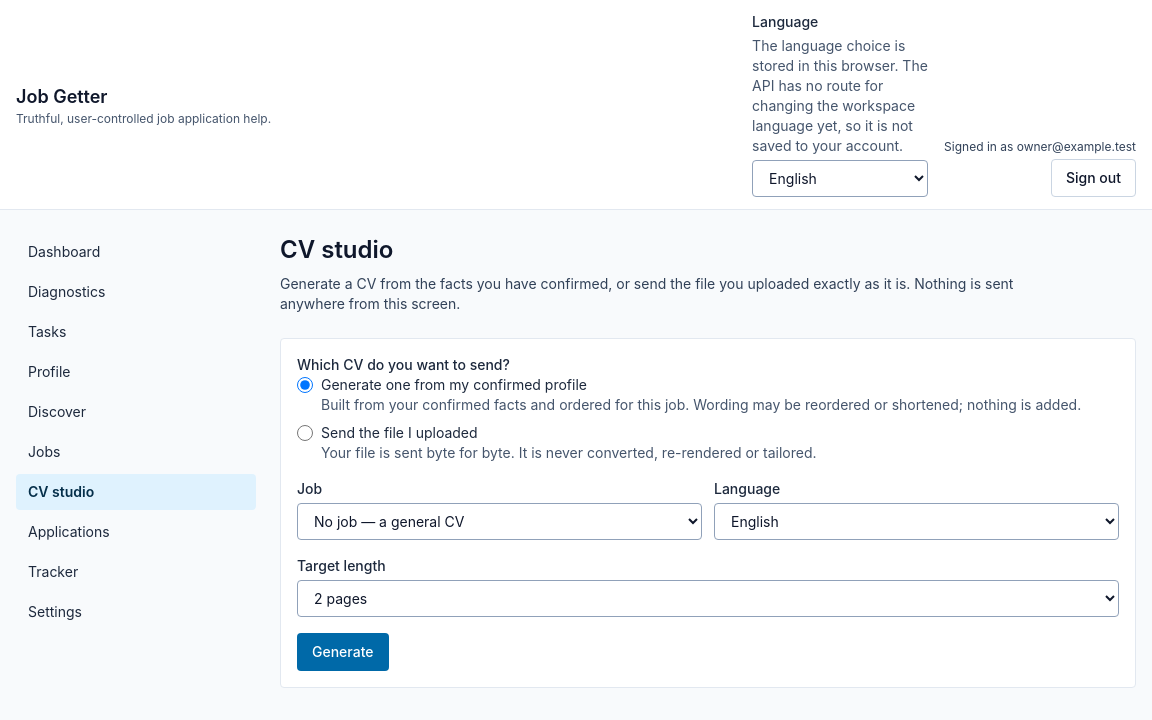
generating a CV › offers the original-file mode as a distinct choice
The width and height of the screenshot is (1152, 720).
Expected: the heading "CV studio" is shown, x1=280 y1=235 x2=393 y2=264
Click the radio button labelled "Send the file I uploaded": (305, 433) x1=297 y1=425 x2=313 y2=441
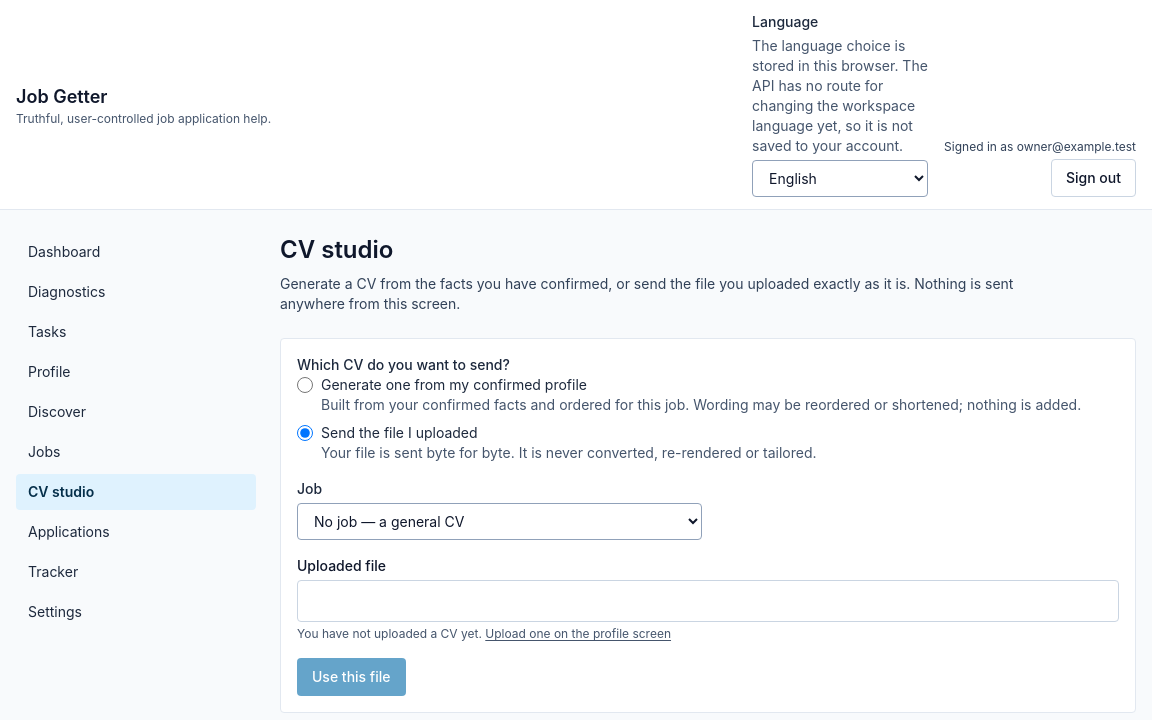
Expected: the text "never converted, re-rendered or tailored" is shown, x1=321 y1=444 x2=816 y2=461
Now the button "Use this file" is disabled, box x1=297 y1=658 x2=406 y2=696
